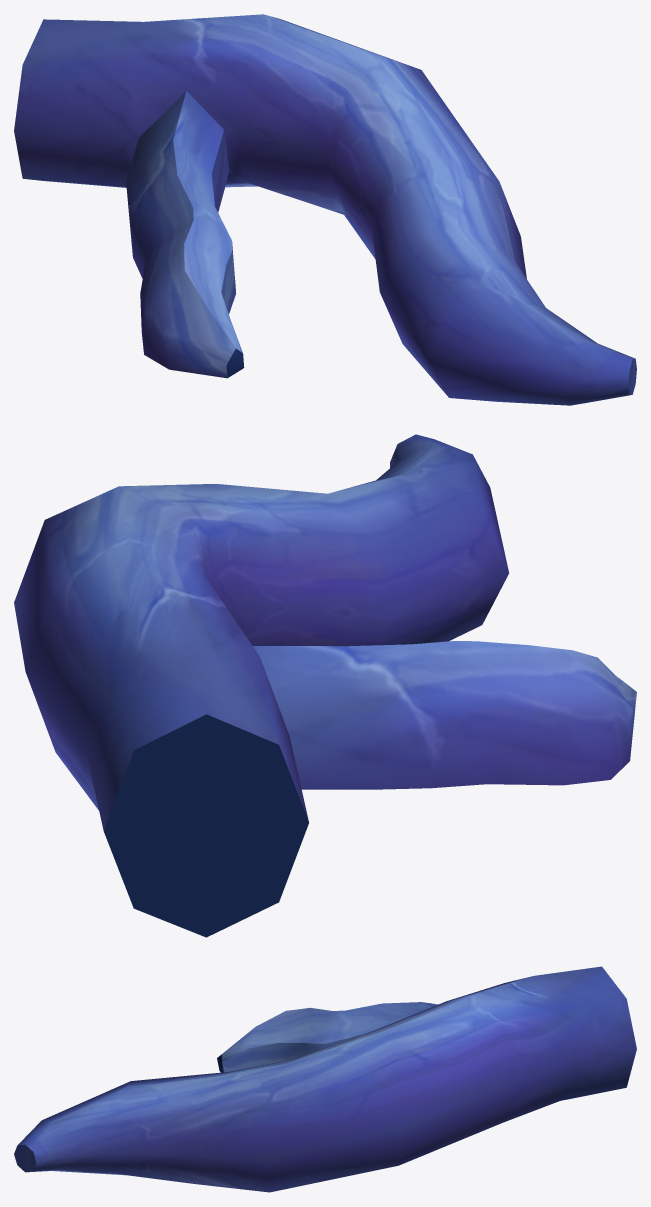
The model's file is Avatar_tree_04.fbx.
The picture shows the model from 3 angles, top to bottom: view 1: azimuth 30°, elevation 25°; view 2: azimuth 150°, elevation 25°; view 3: azimuth 270°, elevation 25°; orthographic projection. The views are drawn at different scales.
Parts seen in each view (by area): view 1: Avatar_tree_04; view 2: Avatar_tree_04; view 3: Avatar_tree_04.
Part boxes in pixels (box(x1,y1,x2,y2)): Avatar_tree_04: box(14, 14, 636, 405); Avatar_tree_04: box(14, 434, 636, 937); Avatar_tree_04: box(14, 966, 636, 1192).
Bounding box in the file's own units: 131 × 79.73 × 250.
